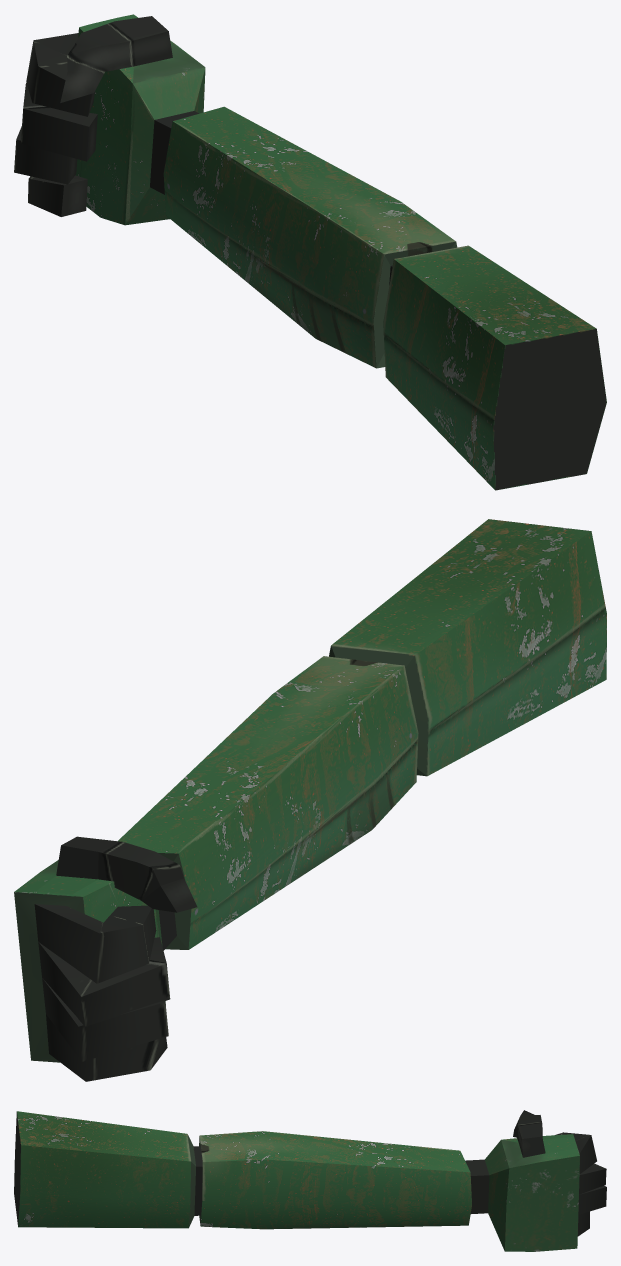
File: Robo_arm_FBX_NEW_0.fbx
3 renders of one model, top to bottom at view 1: azimuth 30°, elevation 25°; view 2: azimuth 150°, elevation 25°; view 3: azimuth 270°, elevation 25°, orthographic. The views are drawn at different scales.
Parts seen in each view (by area): view 1: Arm5; view 2: Arm5; view 3: Arm5.
Part boxes in pixels (box(x1,y1,x2,y2)): Arm5: box(14, 14, 606, 490); Arm5: box(14, 519, 606, 1081); Arm5: box(14, 1110, 606, 1251).
Size of the model in its own units: 0.1063 by 0.1194 by 0.5564.
1 material, 1 textured.
